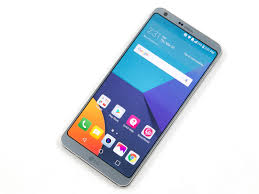lg: (57, 5, 223, 189)
